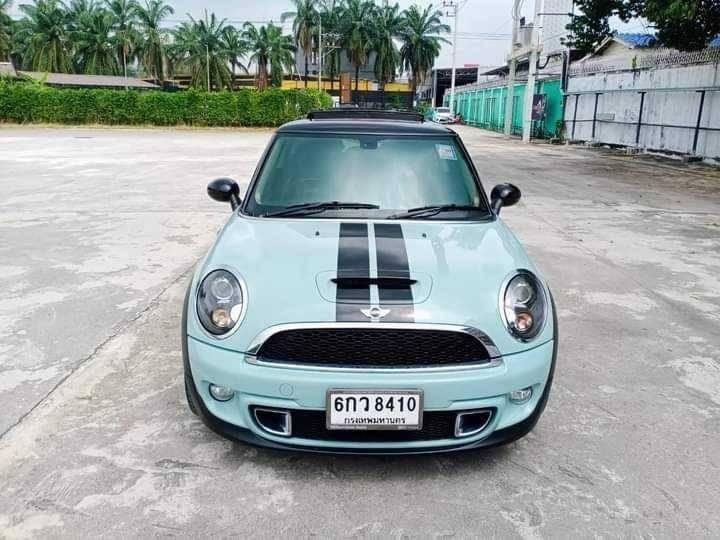license-plate: (325, 386, 424, 433)
